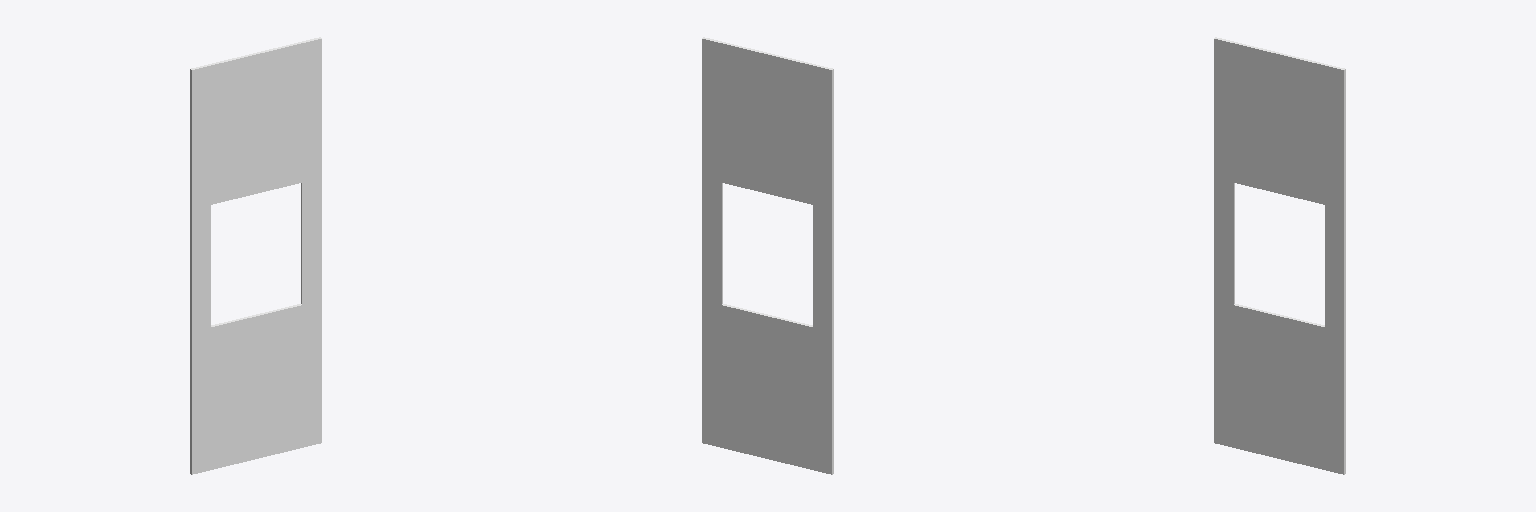
File: glue_wall_d.obj
3 views of the same model, side by side, from view 1: azimuth 30°, elevation 25°; view 2: azimuth 150°, elevation 25°; view 3: azimuth 330°, elevation 25° (orthographic).
Parts seen in each view (by area): view 1: object 1; view 2: object 1; view 3: object 1.
Part boxes in pixels (left/top/right/bottom): object 1: left=190, top=37, right=321, bottom=474; object 1: left=702, top=37, right=833, bottom=474; object 1: left=1214, top=37, right=1345, bottom=474.
Size of the model in its own units: 4 by 11.9 by 0.1.